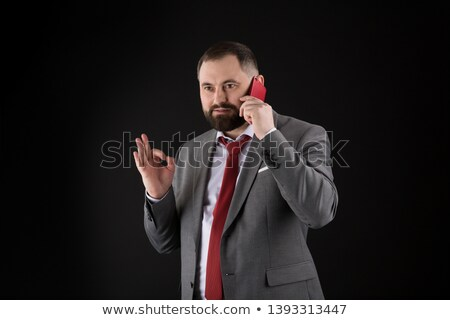phone: (247, 78, 271, 128)
talk: (198, 70, 282, 141)
